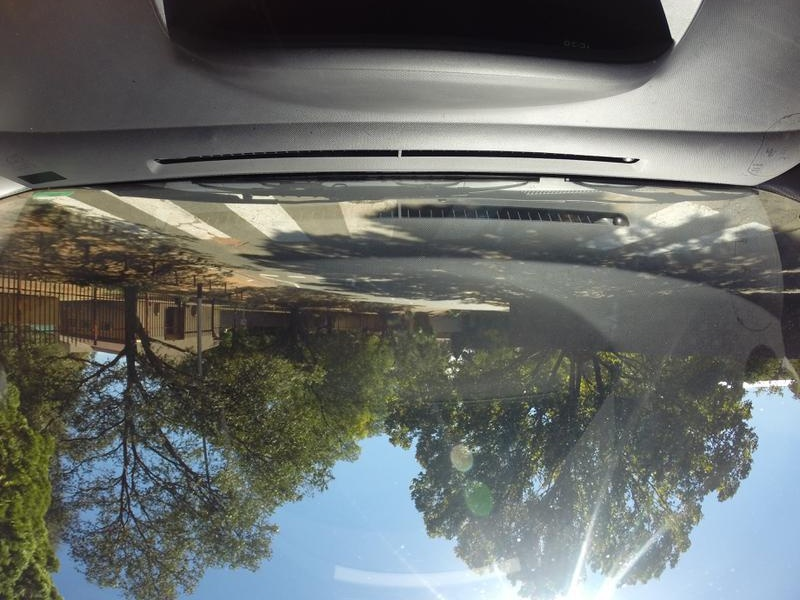pothole: (213, 231, 246, 248)
